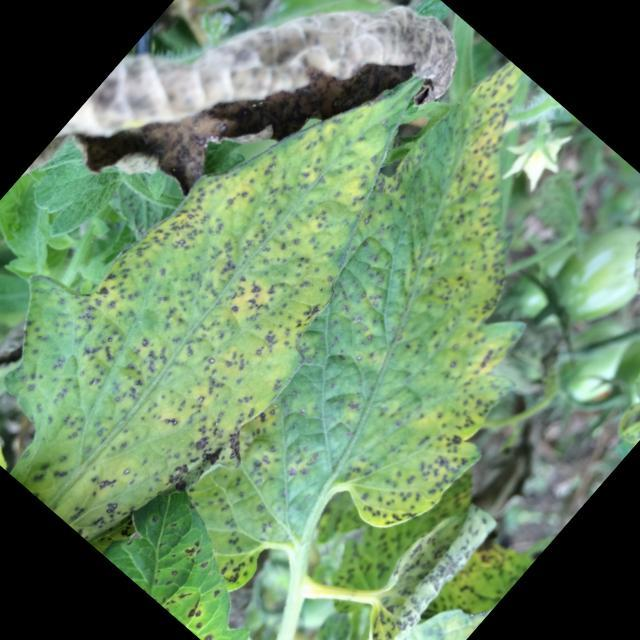Tomato Septoria spot leaf: (106, 43, 640, 640), (0, 0, 519, 583), (98, 475, 304, 640), (340, 484, 508, 640)
